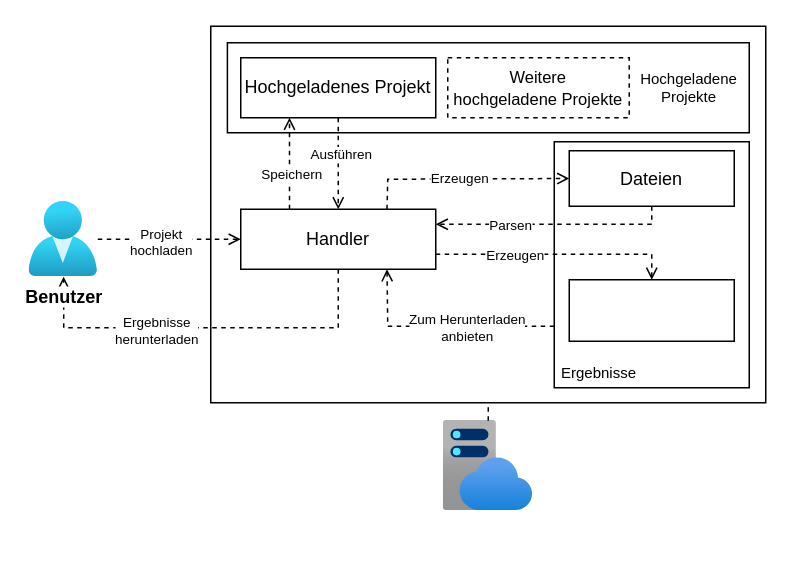
Some shapes in this 794 by 572 pixel diagram are drawn without their labels. The shapes that lost their labels are listed below. From the top down, each one's box as (x1, y1, x2, y2) in pixels, then its label:
(568, 278, 734, 341): Performance Metriken
(442, 420, 532, 510): Webanwendung in der Cloud
